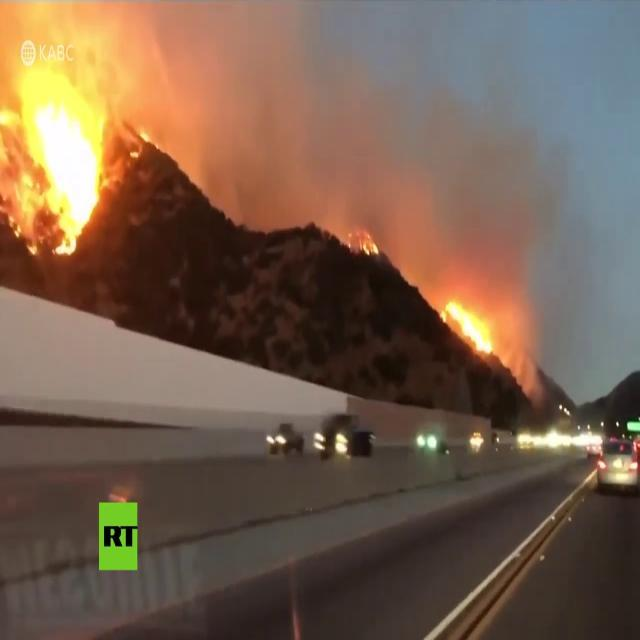Fire: (38, 106, 101, 222), (436, 294, 506, 356)
